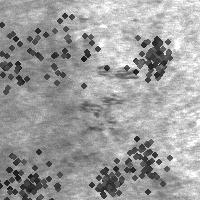rolled-in_scale: (9, 0, 113, 96), (0, 9, 57, 115), (68, 86, 127, 160), (104, 127, 170, 193), (0, 143, 64, 200), (123, 26, 181, 84), (86, 162, 126, 200), (95, 62, 139, 82)
